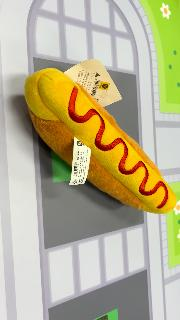hotdog: (25, 67, 178, 215)
